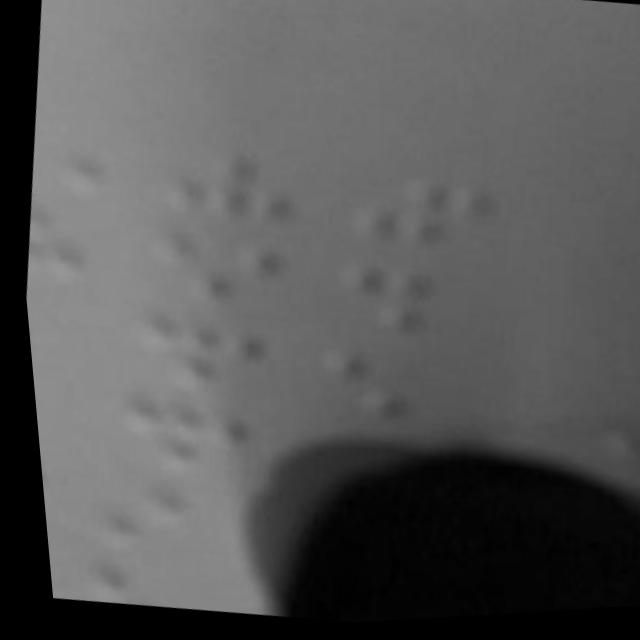braiile: (297, 335, 483, 452), (321, 251, 509, 360), (98, 383, 273, 498), (335, 163, 522, 270), (129, 212, 297, 326), (148, 132, 324, 240), (107, 296, 281, 405), (73, 474, 243, 577), (64, 556, 236, 623), (16, 200, 108, 296)
